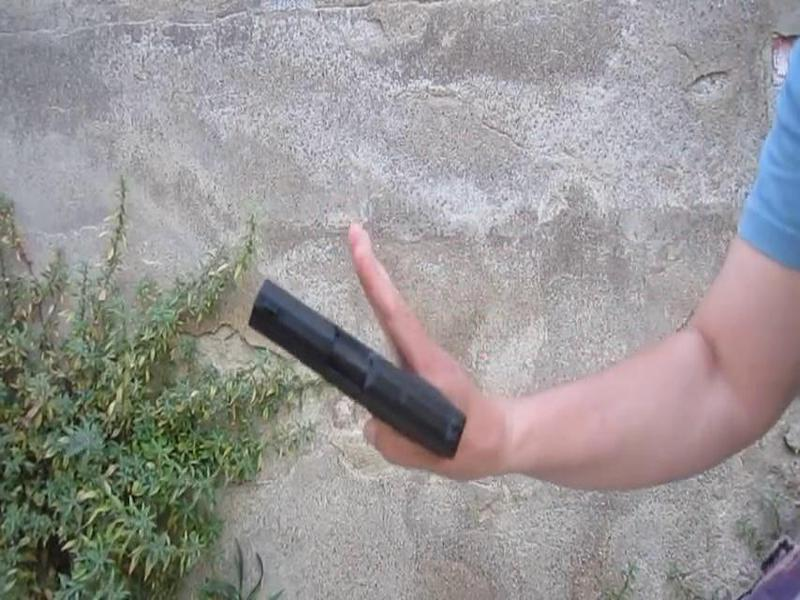Pistola: (221, 251, 488, 507)
